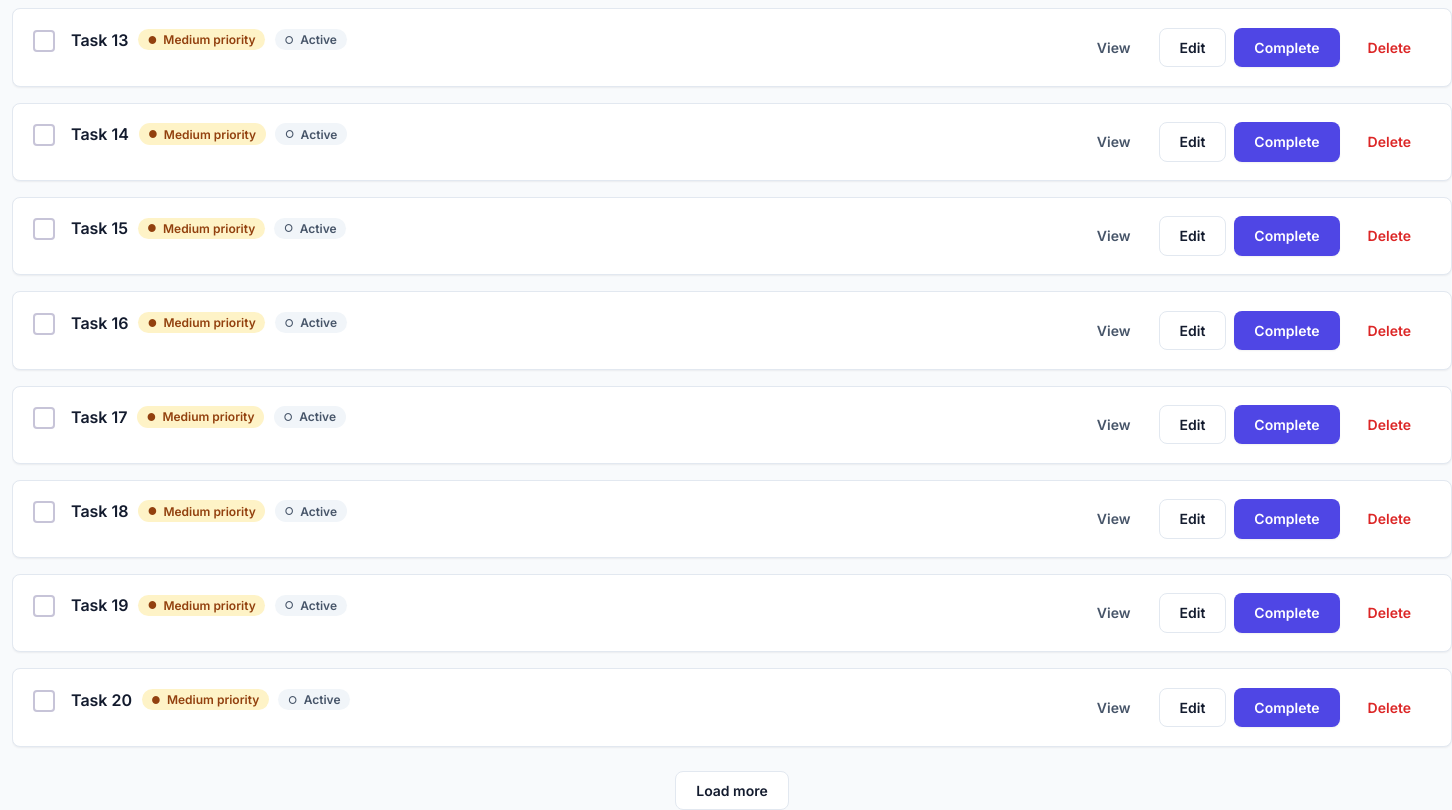
Test: Load more › resets pagination when the filter changes
This screenshot has width=1452, height=810.
(page scrolled)
Click the button "Load more".
click(732, 790)  # box [675,771,789,809]
(page scrolled)
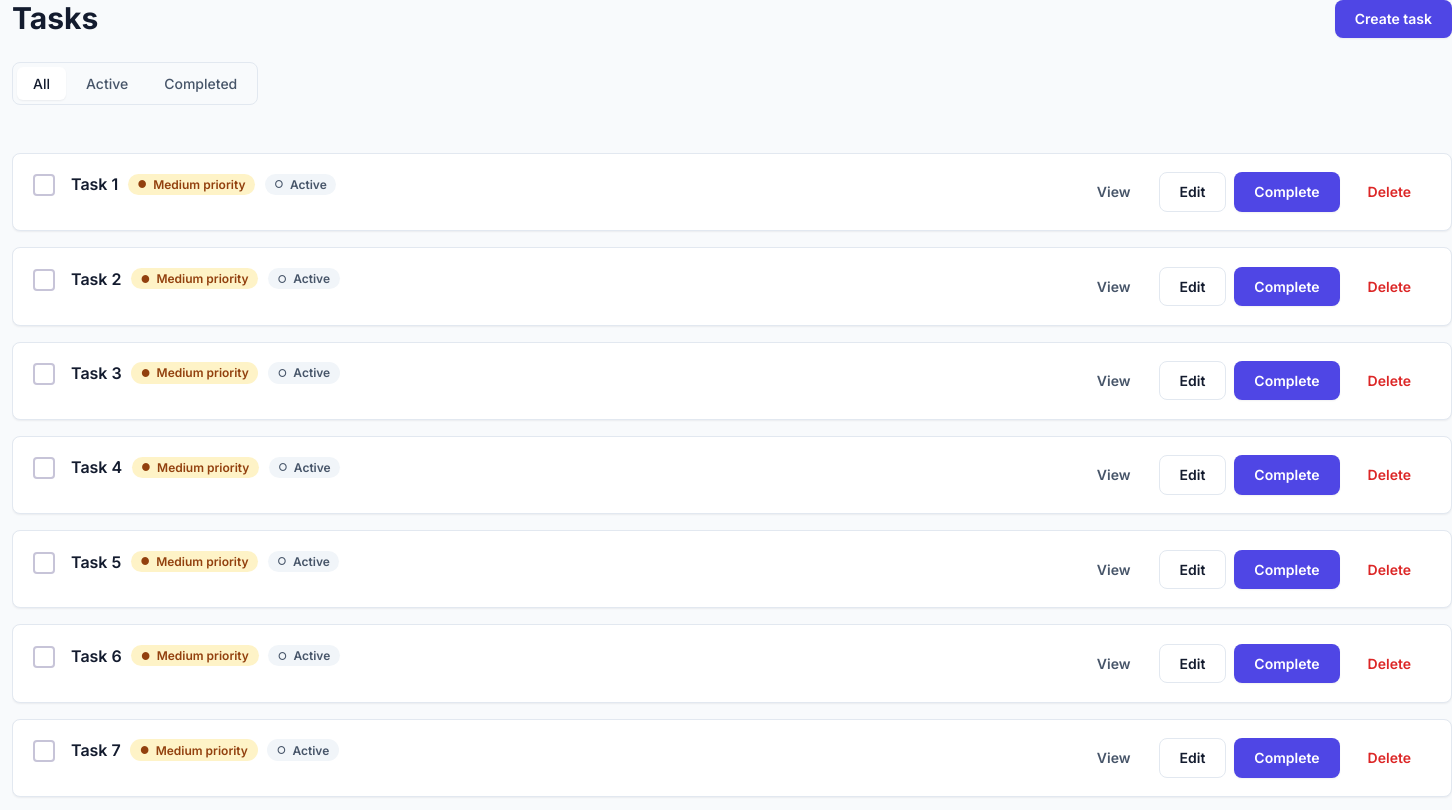
Click the button "Active".
click(107, 83)  # box [70,66,144,100]
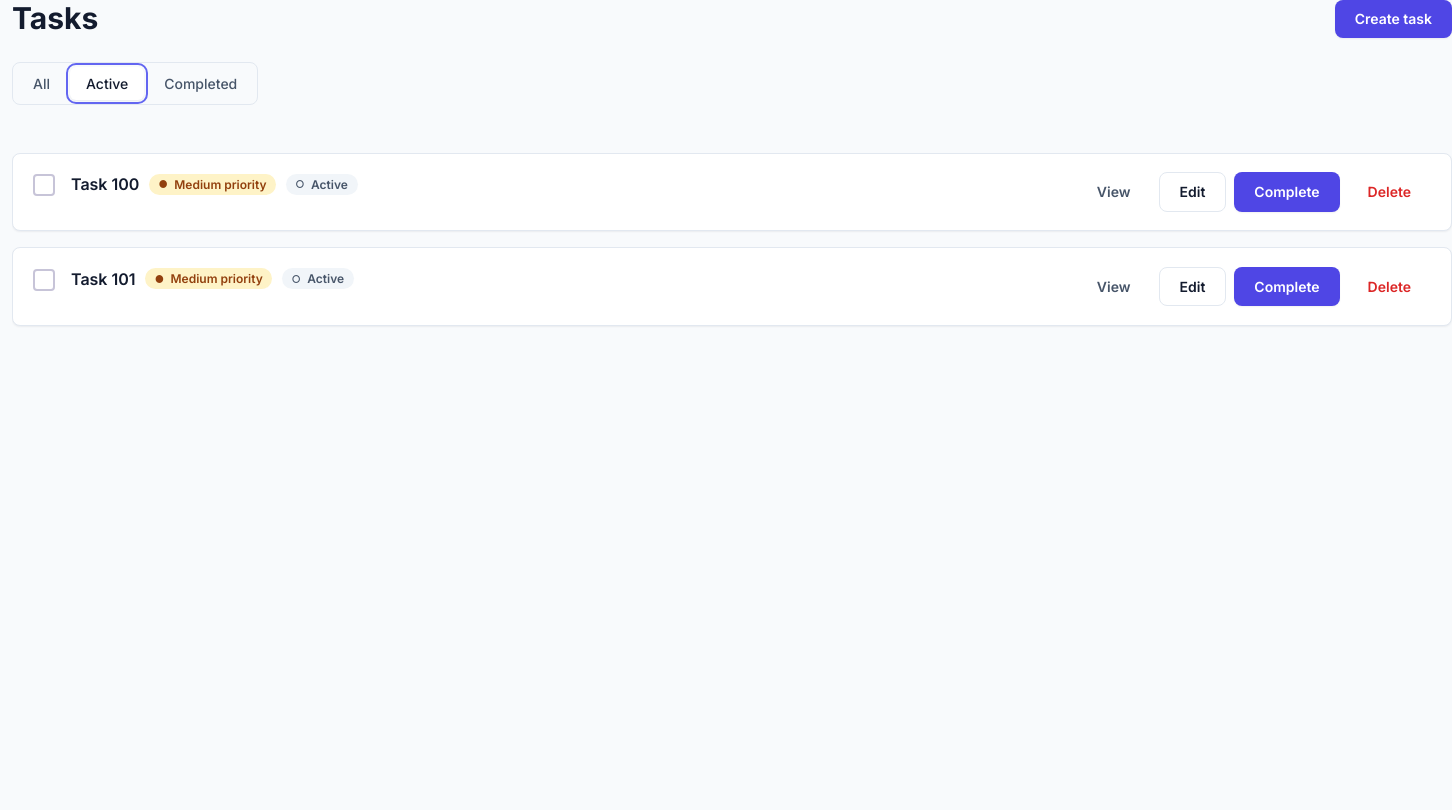
Result: the link "Task 100" is shown at [71,172,139,196]
